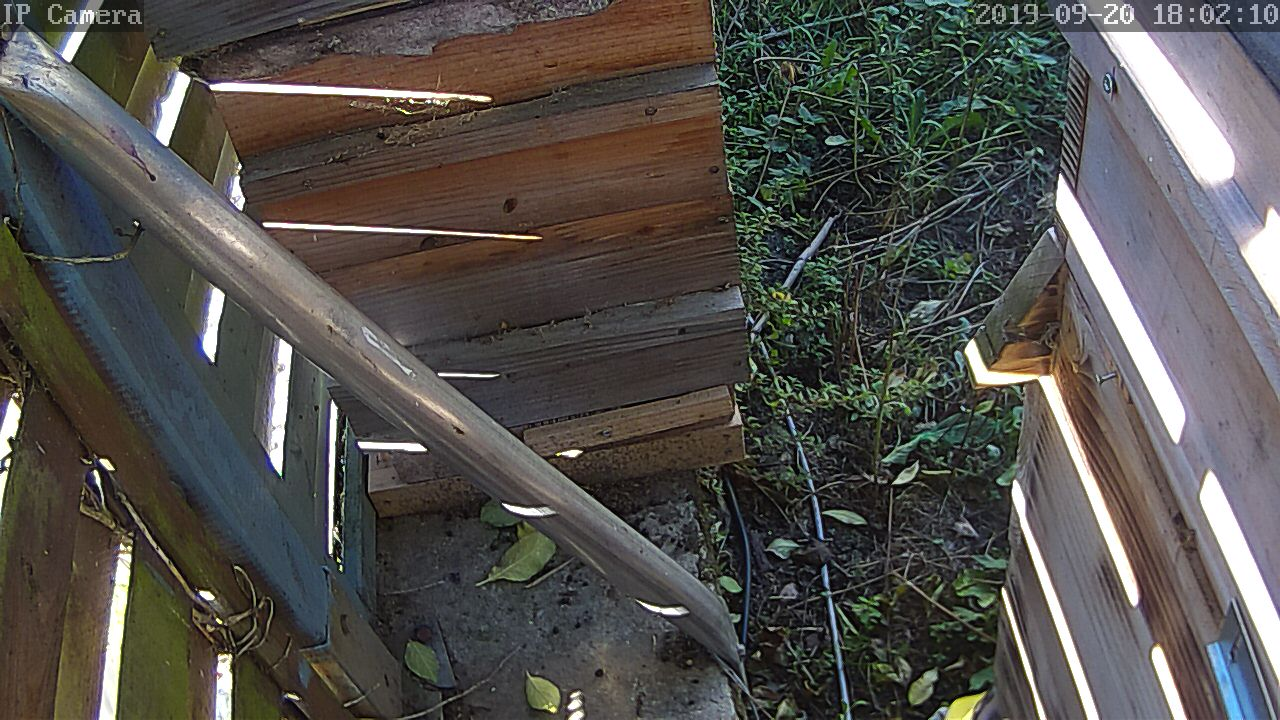hornet: (89, 0, 1243, 720), (506, 11, 1245, 635)
